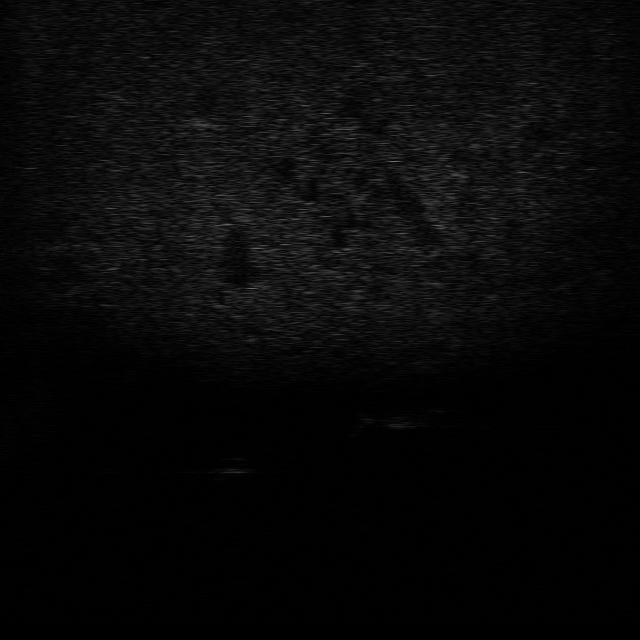ball: (205, 452, 257, 482)
human body: (346, 403, 450, 434)
